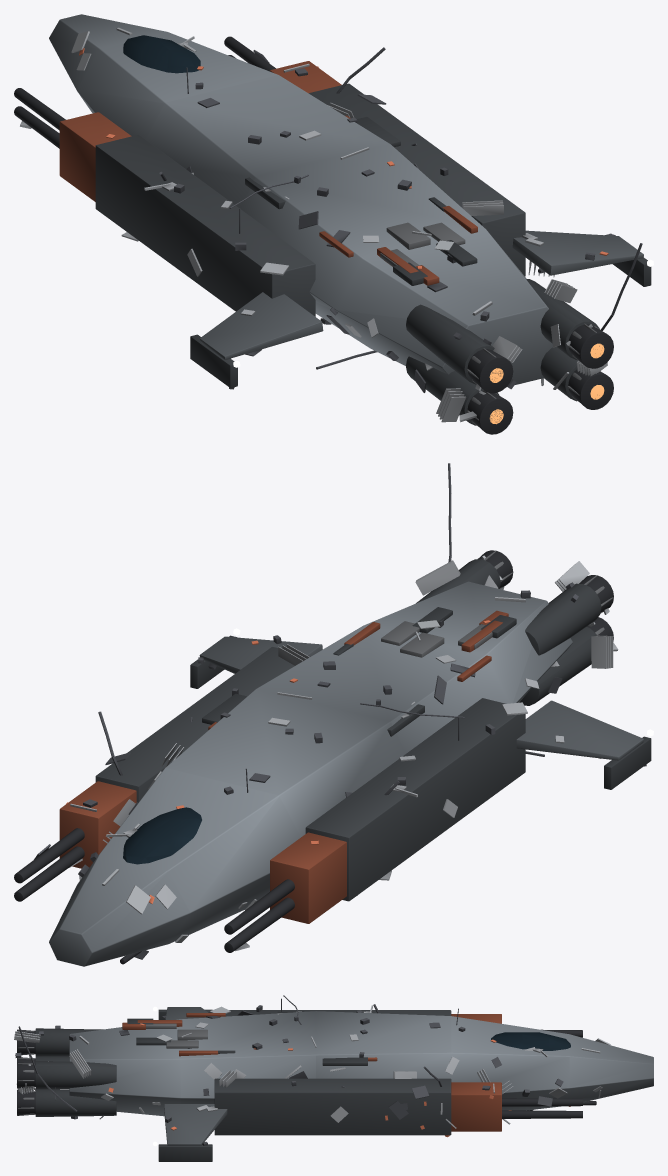
File: ship_hammer.glb
The picture shows the model from 3 angles, top to bottom: view 1: azimuth 30°, elevation 25°; view 2: azimuth 150°, elevation 25°; view 3: azimuth 270°, elevation 25°; orthographic projection. The views are drawn at different scales.
Visible parts, largest first — view 1: ShipHammer; view 2: ShipHammer; view 3: ShipHammer.
Boxes of the visible parts, x1,y1,x2,y2 form: ShipHammer: [14, 14, 653, 434]; ShipHammer: [14, 463, 653, 966]; ShipHammer: [14, 995, 653, 1161].
Size of the model in its own units: 9.62 by 3.93 by 18.94.
